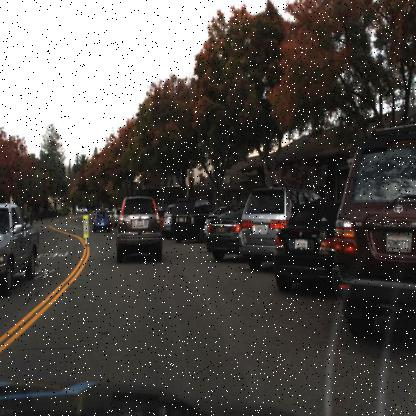car: (335, 123, 416, 342), (269, 192, 339, 298), (237, 185, 290, 275), (0, 201, 40, 299), (113, 193, 166, 265), (203, 198, 241, 262), (168, 199, 213, 244), (90, 208, 113, 235), (163, 204, 173, 240)
